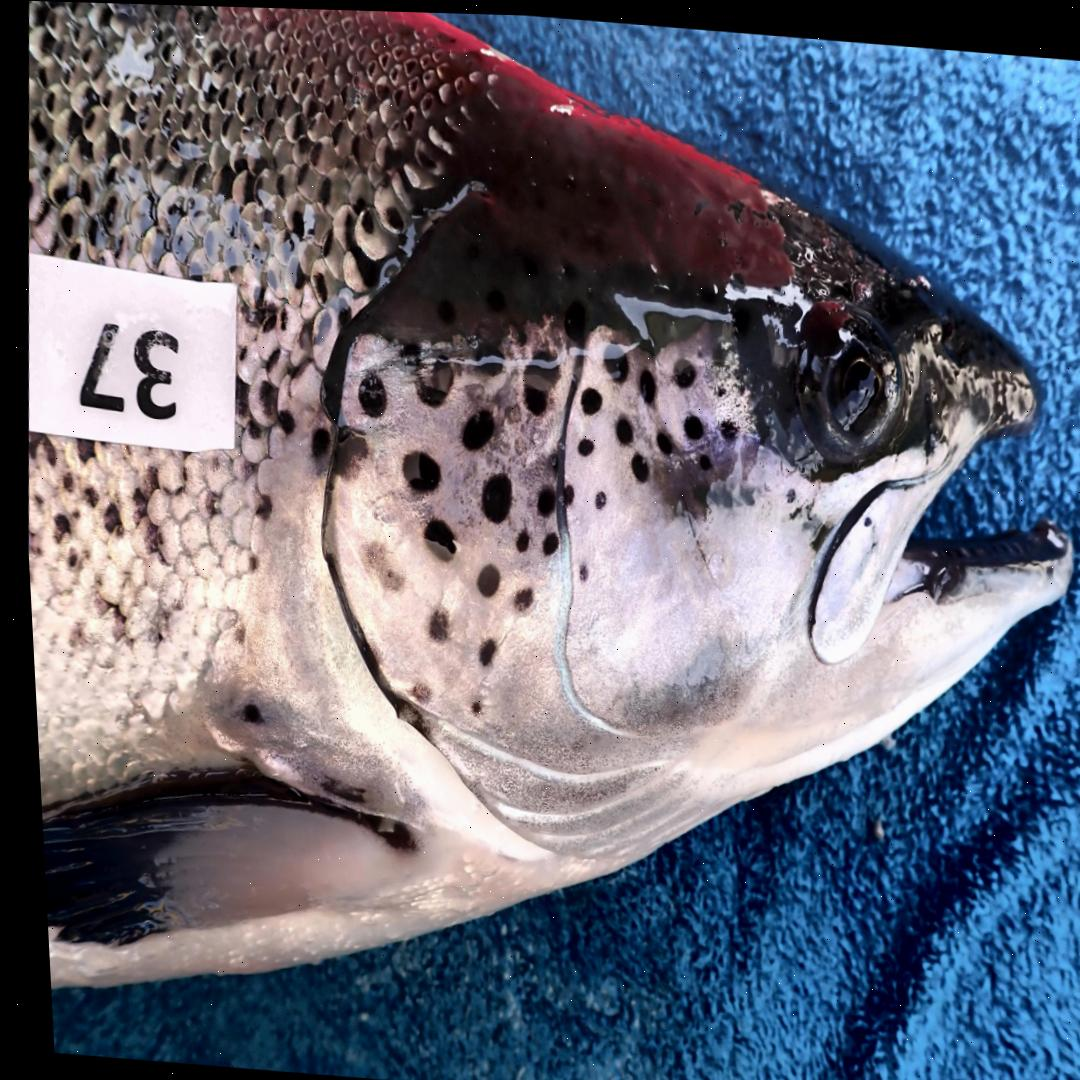spot: (518, 353, 553, 411), (411, 354, 448, 403), (457, 339, 501, 380), (358, 541, 396, 588), (397, 447, 434, 489), (328, 429, 362, 474), (475, 471, 506, 518), (416, 515, 448, 557), (456, 406, 489, 446), (352, 369, 380, 413), (599, 338, 623, 379), (470, 560, 492, 592), (421, 605, 441, 638), (668, 354, 690, 384), (574, 382, 596, 411), (633, 364, 651, 399), (702, 478, 727, 503), (469, 635, 489, 664), (529, 483, 549, 512), (506, 583, 526, 609), (609, 414, 628, 440), (566, 347, 579, 384), (678, 410, 698, 434), (401, 679, 423, 700), (626, 449, 643, 476), (713, 414, 733, 435), (650, 425, 667, 449), (535, 527, 551, 550), (731, 481, 748, 501), (708, 337, 723, 359), (509, 525, 523, 548), (397, 340, 415, 357), (571, 434, 587, 452), (691, 449, 706, 467), (558, 479, 569, 502), (462, 695, 475, 713), (570, 558, 581, 579), (588, 487, 599, 505), (709, 380, 721, 392), (780, 483, 788, 497)
